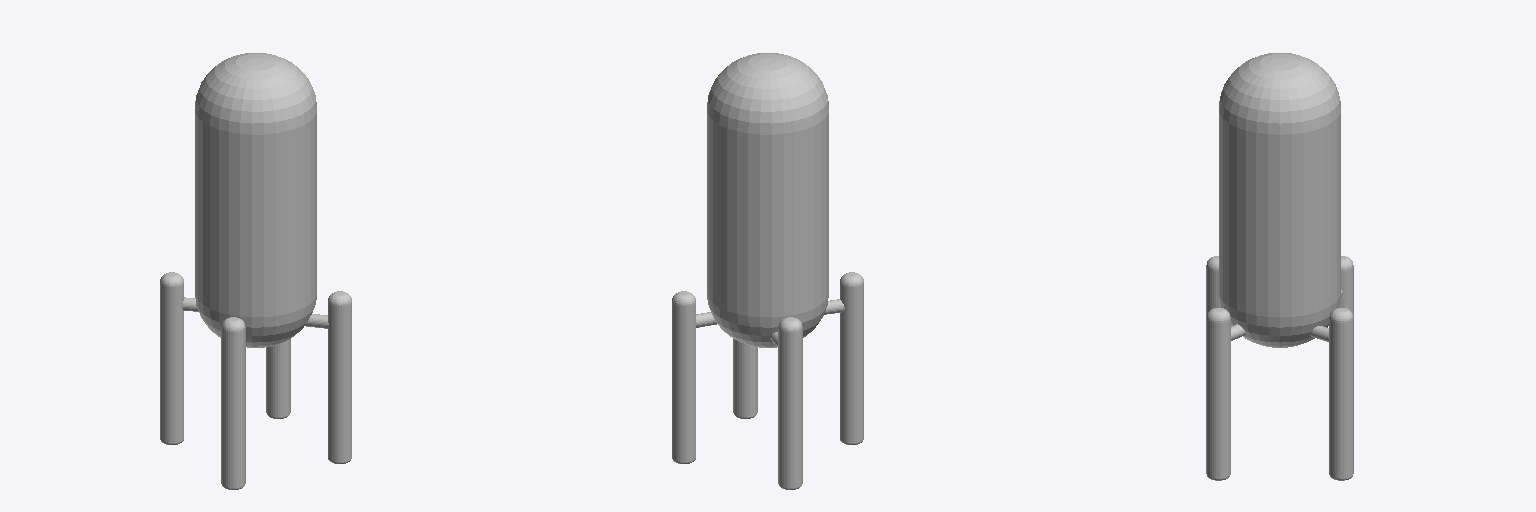
3 views of the same model, side by side, from view 1: azimuth 30°, elevation 25°; view 2: azimuth 150°, elevation 25°; view 3: azimuth 270°, elevation 25° (orthographic).
Parts seen in each view (by area): view 1: Цилиндр.006_Цилиндр.008; view 2: Цилиндр.006_Цилиндр.008; view 3: Цилиндр.006_Цилиндр.008.
Boxes of the visible parts, box(x1,y1,x2,y2) form: Цилиндр.006_Цилиндр.008: box(160, 53, 351, 489); Цилиндр.006_Цилиндр.008: box(672, 53, 863, 489); Цилиндр.006_Цилиндр.008: box(1206, 53, 1353, 480).
Size of the model in its own units: 2.4 by 7 by 2.4.